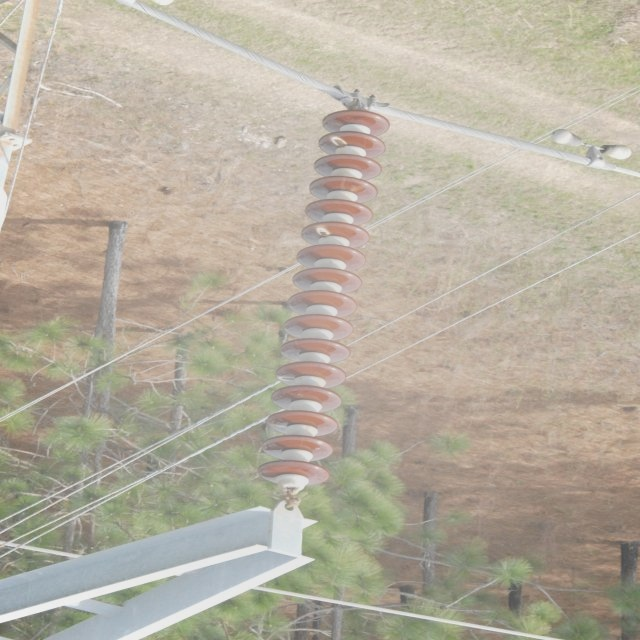insulator: (260, 111, 389, 486)
